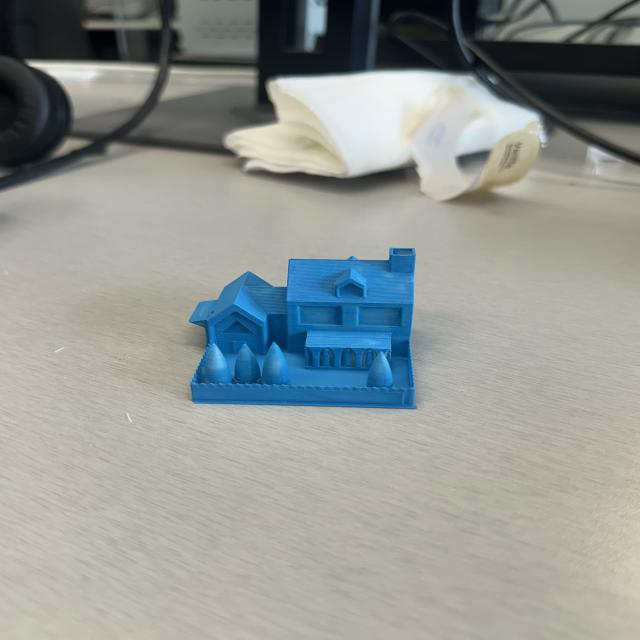house: (186, 248, 418, 412)
